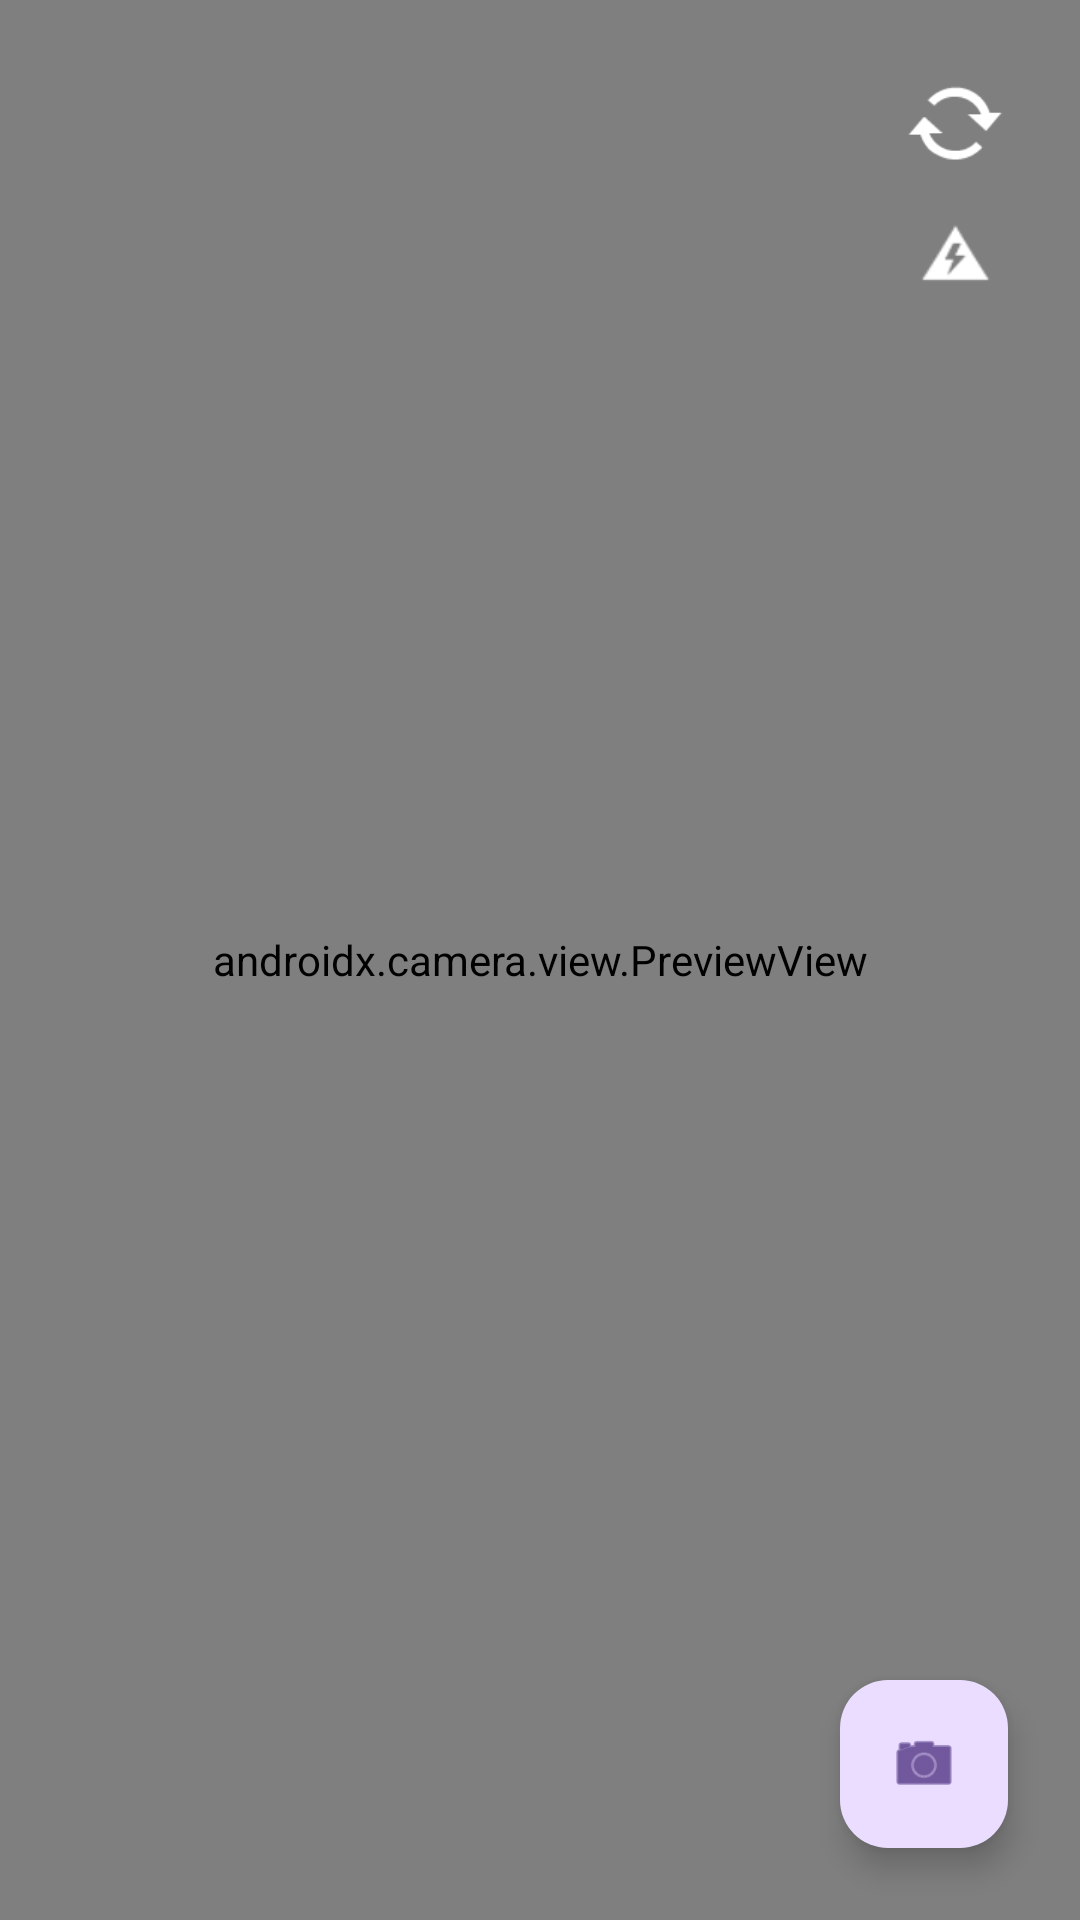

Screen size 1080 x 1920. Icon name, then its center in pixels as point (x, y):
Capture photo: point (924, 1764)
Flip Camera: point (955, 123)
Toggle Flash: point (955, 253)
